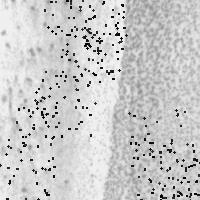pitted_surface: (106, 1, 200, 197), (2, 1, 73, 193), (61, 22, 121, 80), (68, 0, 125, 59), (135, 143, 194, 200), (128, 109, 184, 169), (36, 79, 94, 136), (55, 33, 112, 89), (33, 71, 89, 128), (0, 107, 53, 167), (140, 150, 197, 200), (0, 157, 53, 200), (44, 0, 103, 32), (170, 162, 200, 200)
